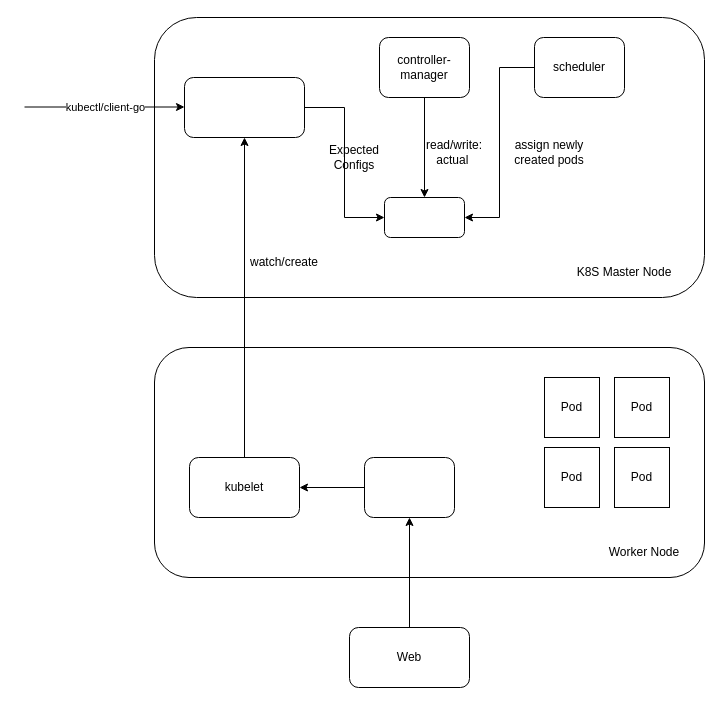
Image size: 722x705. Some labels were removed from this diagram. The shapes that lost their labels are listed below. From the top down, each one's centre as x and y in pixels, then its label:
At pixel 244 107: "API Server".
At pixel 424 217: "ETCD".
At pixel 409 487: "kube-proxy".
